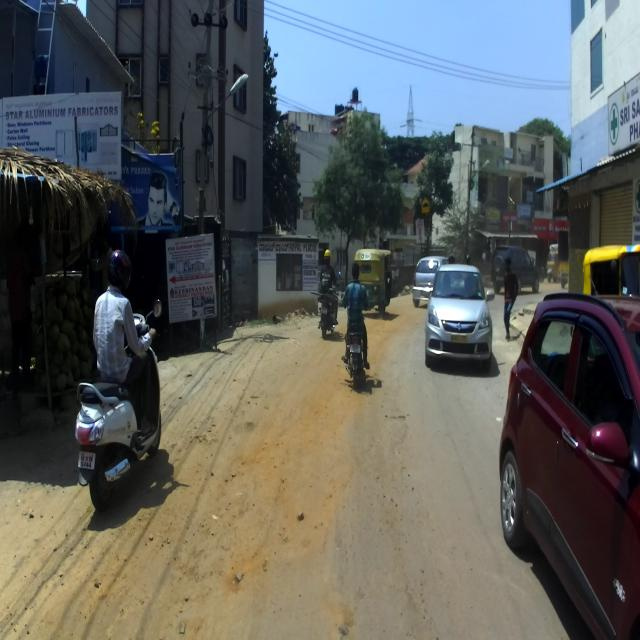car ahead at: (502, 305, 640, 640), (427, 262, 492, 382)
motorcycle ahead at: (77, 369, 171, 502), (343, 327, 372, 401)
